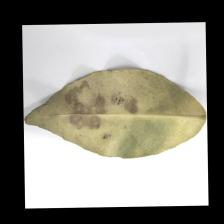black spot: (61, 86, 143, 138)
